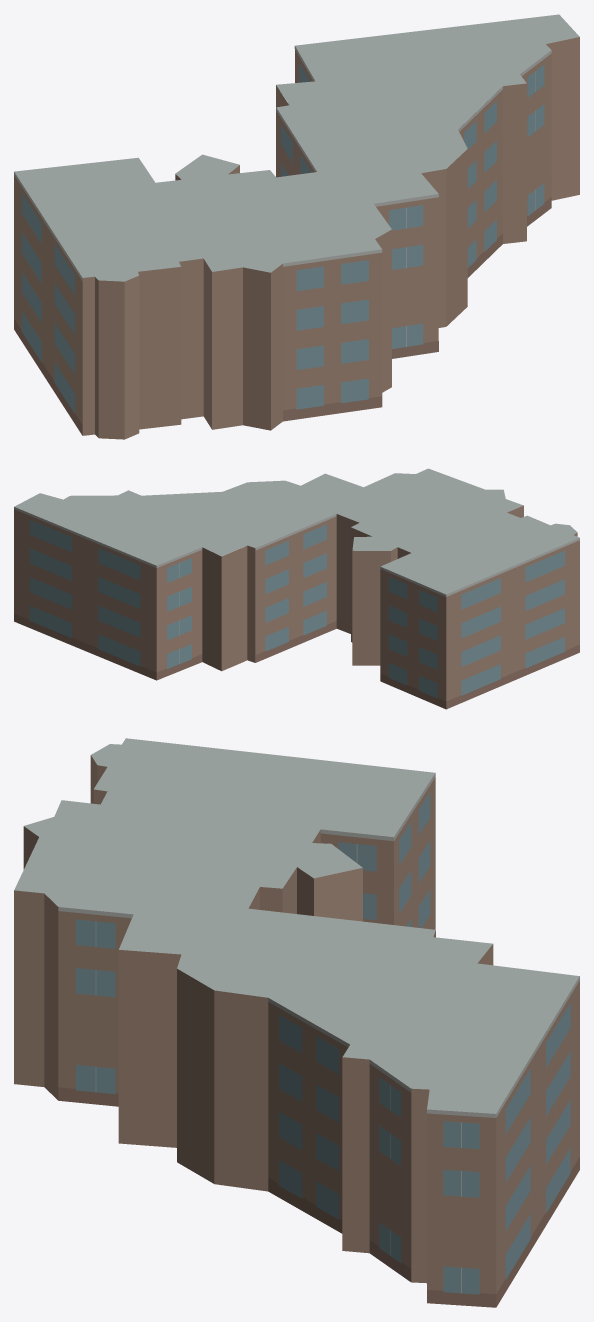
Rendered from survey-upis-33037253.glb.
3 renders of one model, top to bottom at view 1: azimuth 30°, elevation 25°; view 2: azimuth 150°, elevation 25°; view 3: azimuth 270°, elevation 25°, orthographic. The views are drawn at different scales.
Visible parts, largest first — view 1: survey-upis-33037253.tmp; view 2: survey-upis-33037253.tmp; view 3: survey-upis-33037253.tmp.
Part boxes in pixels (bbox=[...]): survey-upis-33037253.tmp: bbox=[14, 14, 579, 439]; survey-upis-33037253.tmp: bbox=[14, 468, 579, 709]; survey-upis-33037253.tmp: bbox=[14, 738, 579, 1307].
Size of the model in its own units: 48.46 by 11.65 by 30.84.
